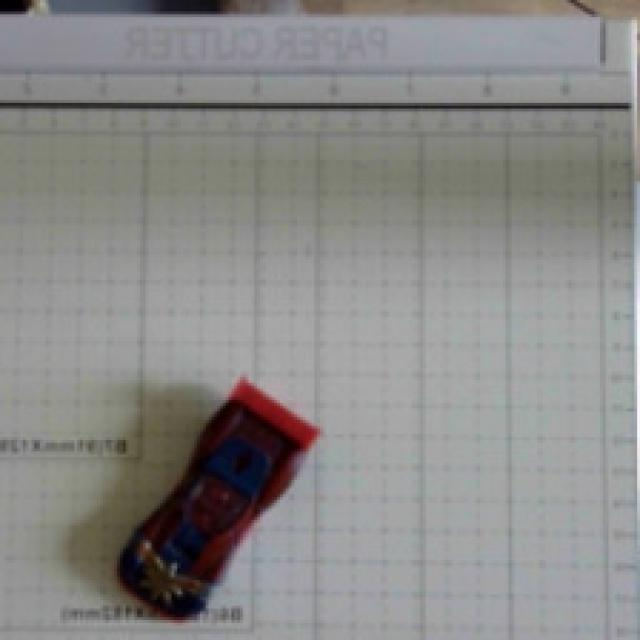Red Car: (70, 371, 362, 631)
